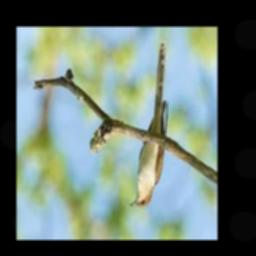Cuckoo: (128, 43, 169, 208)
